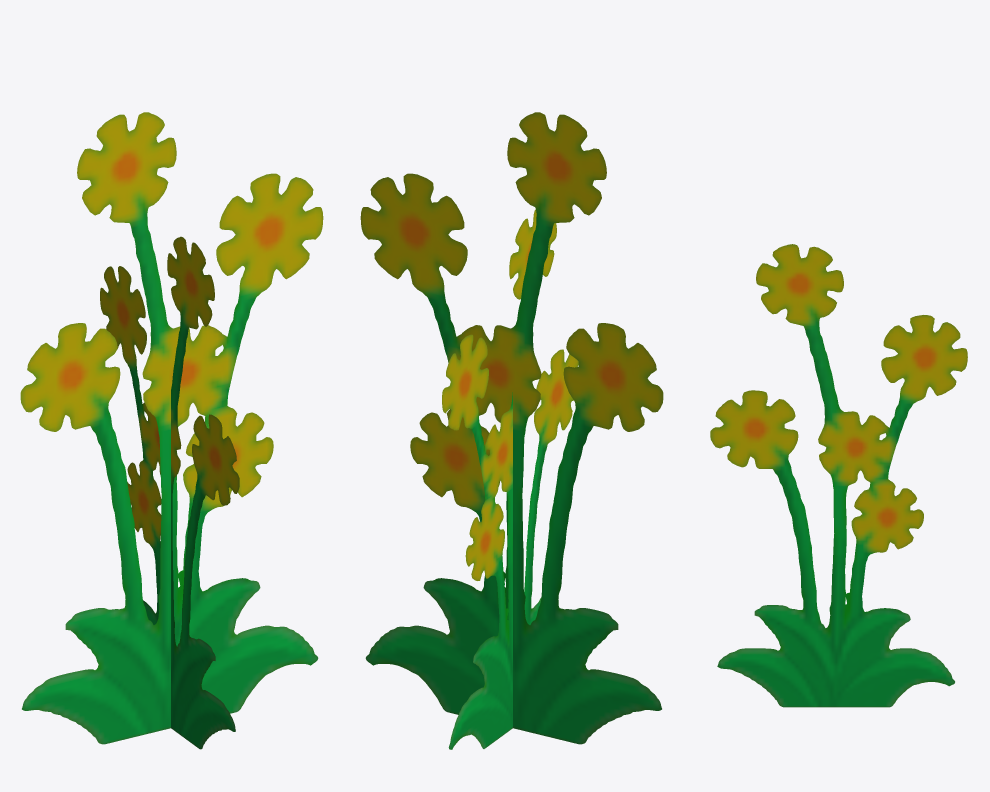
Rendered from Flower05_a02.FBX.
The picture shows the model from 3 angles, left to right: view 1: azimuth 30°, elevation 25°; view 2: azimuth 150°, elevation 25°; view 3: azimuth 270°, elevation 25°; orthographic projection. The views are drawn at different scales.
Visible parts, largest first — view 1: Flower05_a02; view 2: Flower05_a02; view 3: Flower05_a02.
Part boxes in pixels (x1=…): Flower05_a02: x1=20, y1=112, x2=323, y2=749; Flower05_a02: x1=360, y1=112, x2=663, y2=749; Flower05_a02: x1=710, y1=244, x2=967, y2=707.
Bounding box in the file's own units: 39.49 × 81.27 × 32.78.
1 material, 1 textured.
